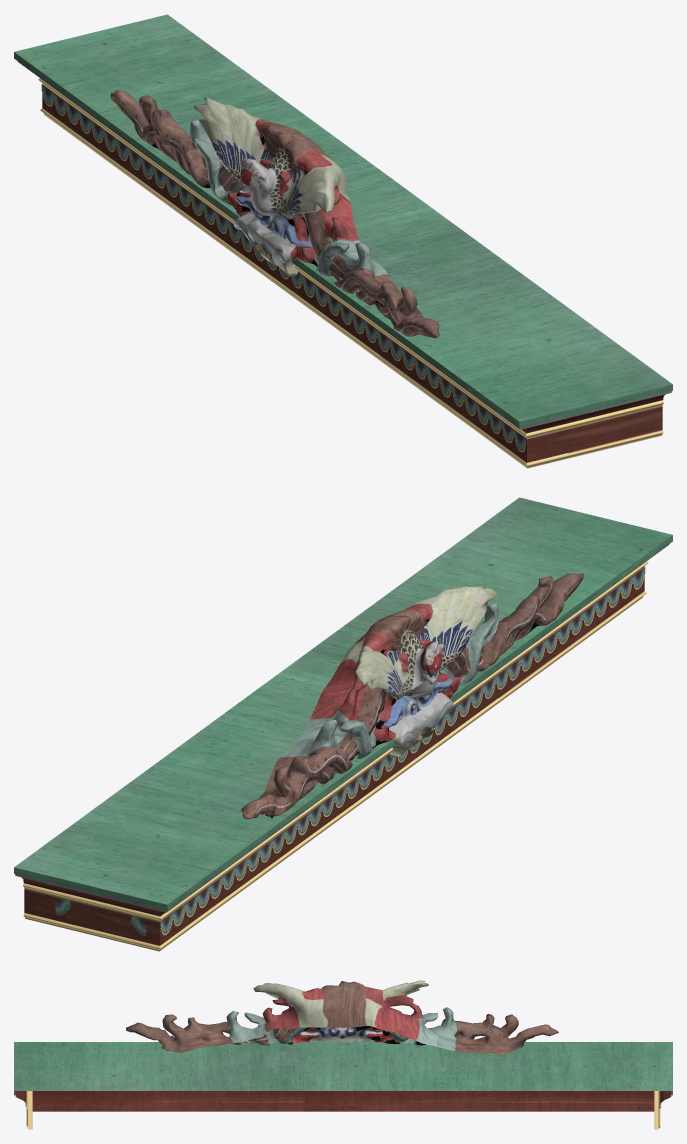
Rendered from SM_WindowFrame05D.fbx.
3 views of the same model, one above another, from view 1: azimuth 30°, elevation 25°; view 2: azimuth 150°, elevation 25°; view 3: azimuth 270°, elevation 25° (orthographic). The views are drawn at different scales.
Visible parts, largest first — view 1: SM_WindowFrame05D; view 2: SM_WindowFrame05D; view 3: SM_WindowFrame05D.
Boxes of the visible parts, left/top/right/bottom form: SM_WindowFrame05D: left=14, top=14, right=672, bottom=468; SM_WindowFrame05D: left=14, top=497, right=672, bottom=951; SM_WindowFrame05D: left=14, top=980, right=672, bottom=1129.
Size of the model in its own units: 61.91 by 310 by 53.83.
1 material, 1 textured.
